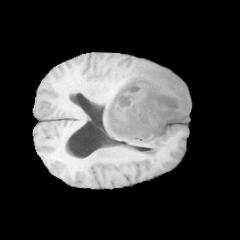glioma: (104, 62, 191, 149)
